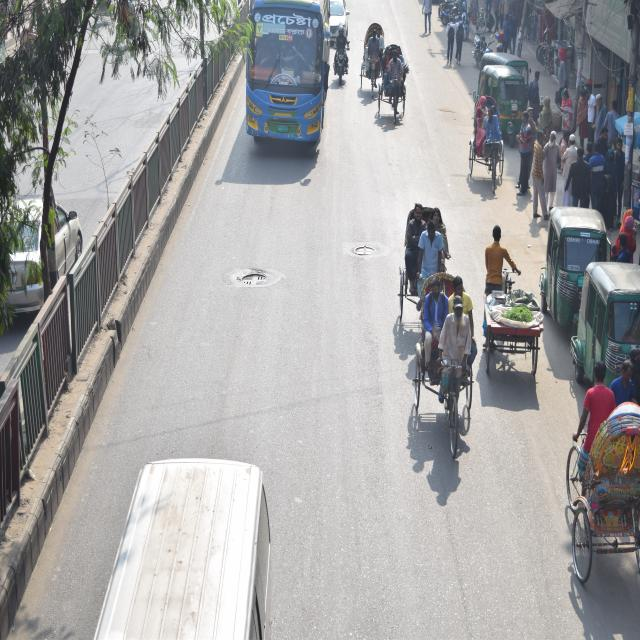bus: (243, 0, 329, 160)
car: (0, 181, 88, 344)
microbus: (91, 444, 281, 640)
motorbike: (328, 22, 357, 91)
